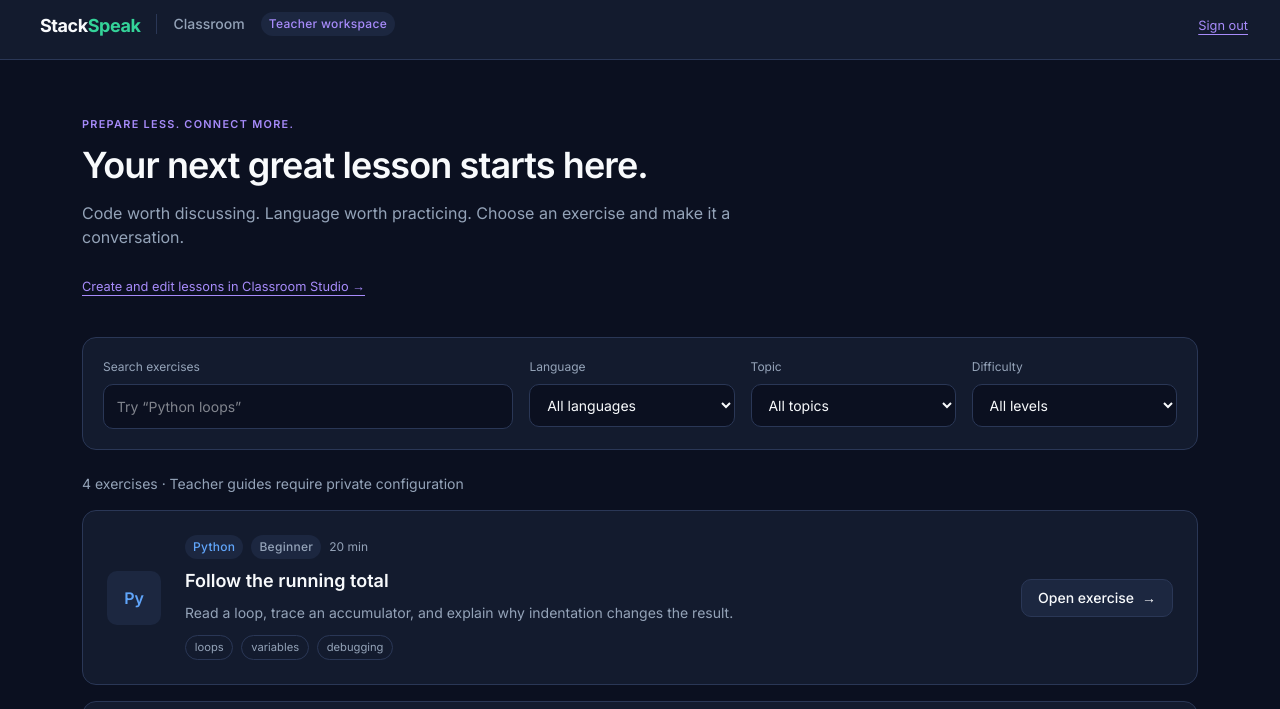
it: Classroom teaching workflow › searches all words and combines filters without inventing languages
Type "Python loops" into the search field.
click(308, 406); type("Python loops")  # box [103, 384, 513, 429]
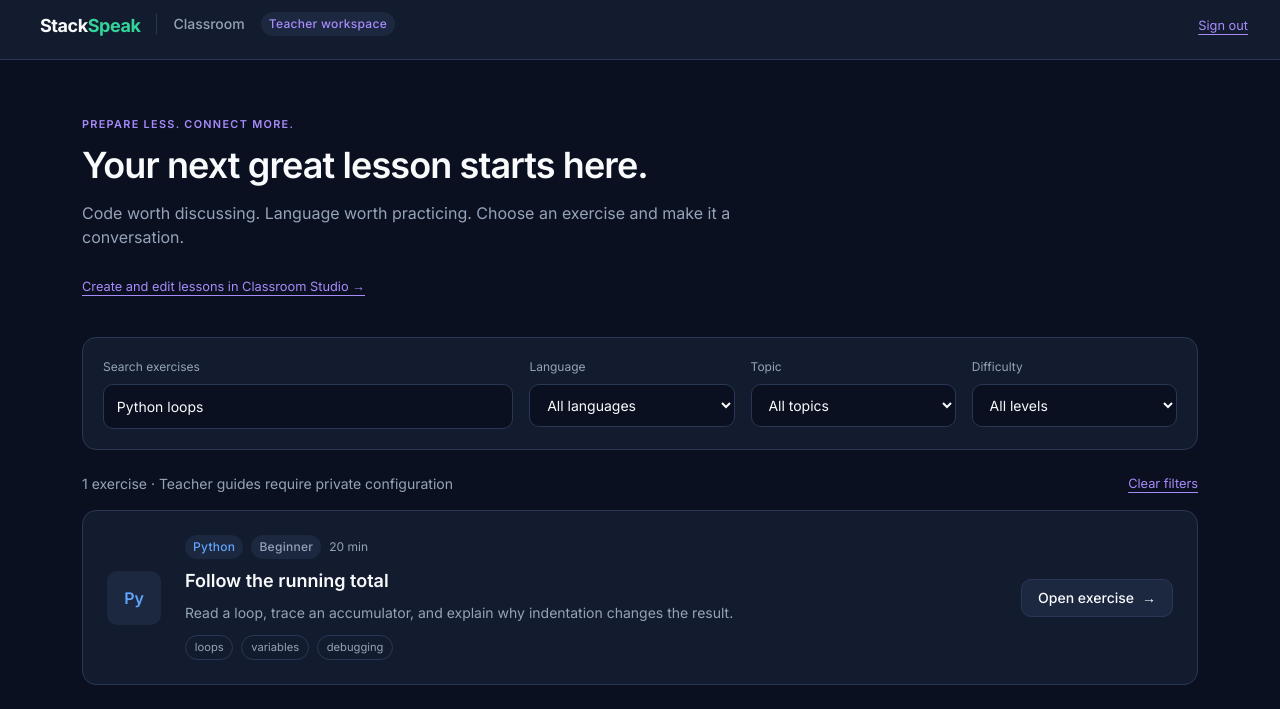
Expected: the heading "Follow the running total" is shown, [185, 570, 389, 591]
Select "C#" in the dropdown labelled "Language" at x=632, y=405, box [529, 384, 735, 427]
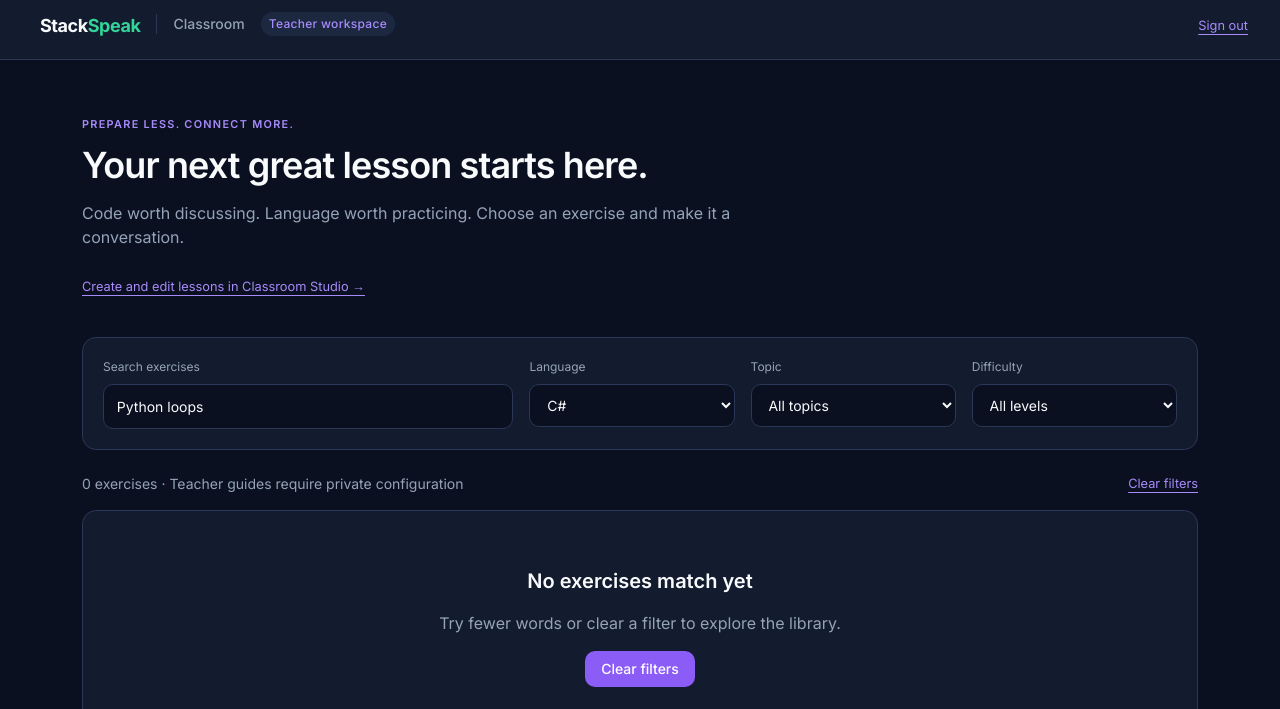
Result: the heading "No exercises match yet" is shown at [527, 569, 753, 593]
Click the 1st button "Clear filters".
click(1163, 484)  # box [1128, 474, 1198, 494]
(page scrolled)
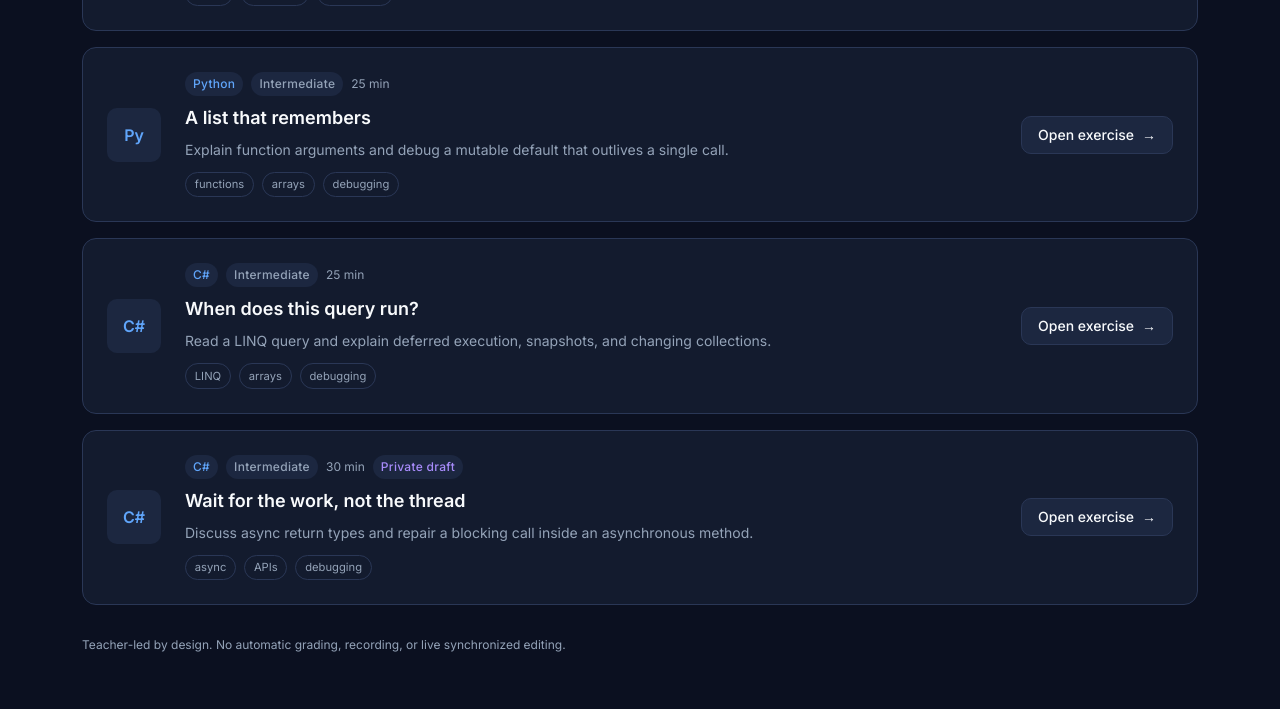
Result: the text "Private draft" is shown at [373, 455, 463, 479]
